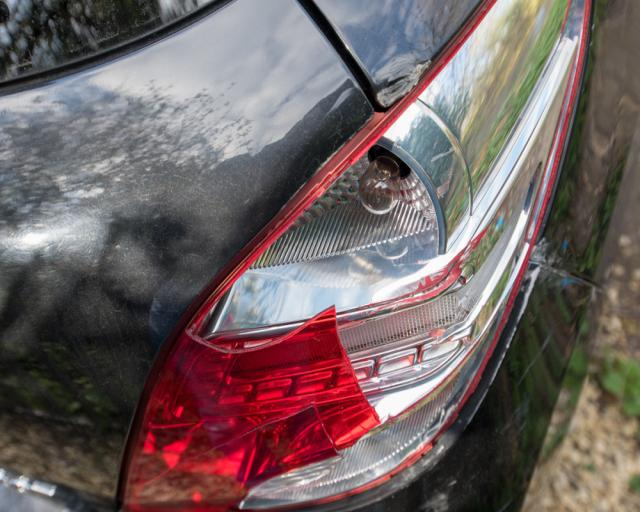dent: (369, 49, 424, 104)
lamp broken: (113, 0, 595, 512)
